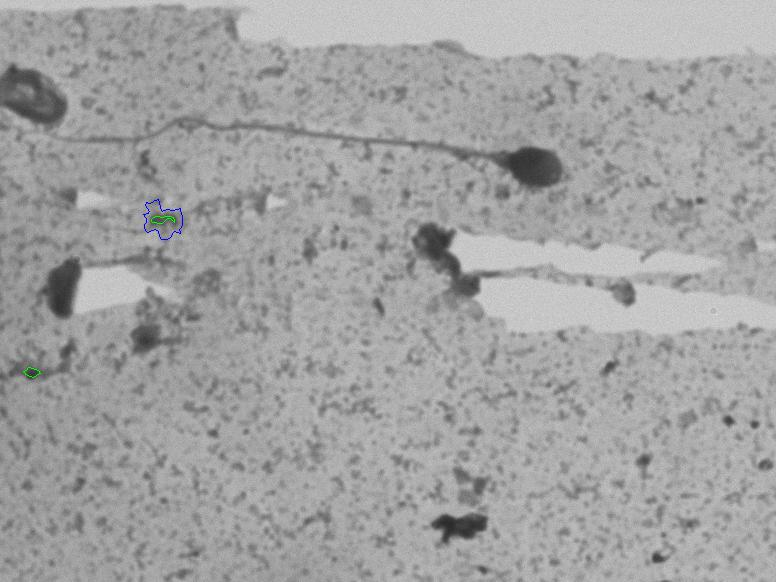Normal: (59, 61, 571, 213)
